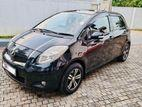car: (2, 8, 131, 95)
